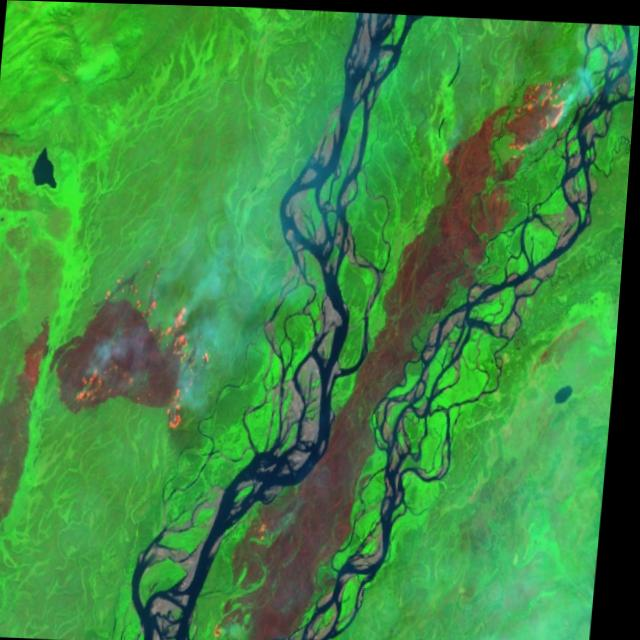fire: (82, 262, 225, 434), (497, 59, 589, 162)
